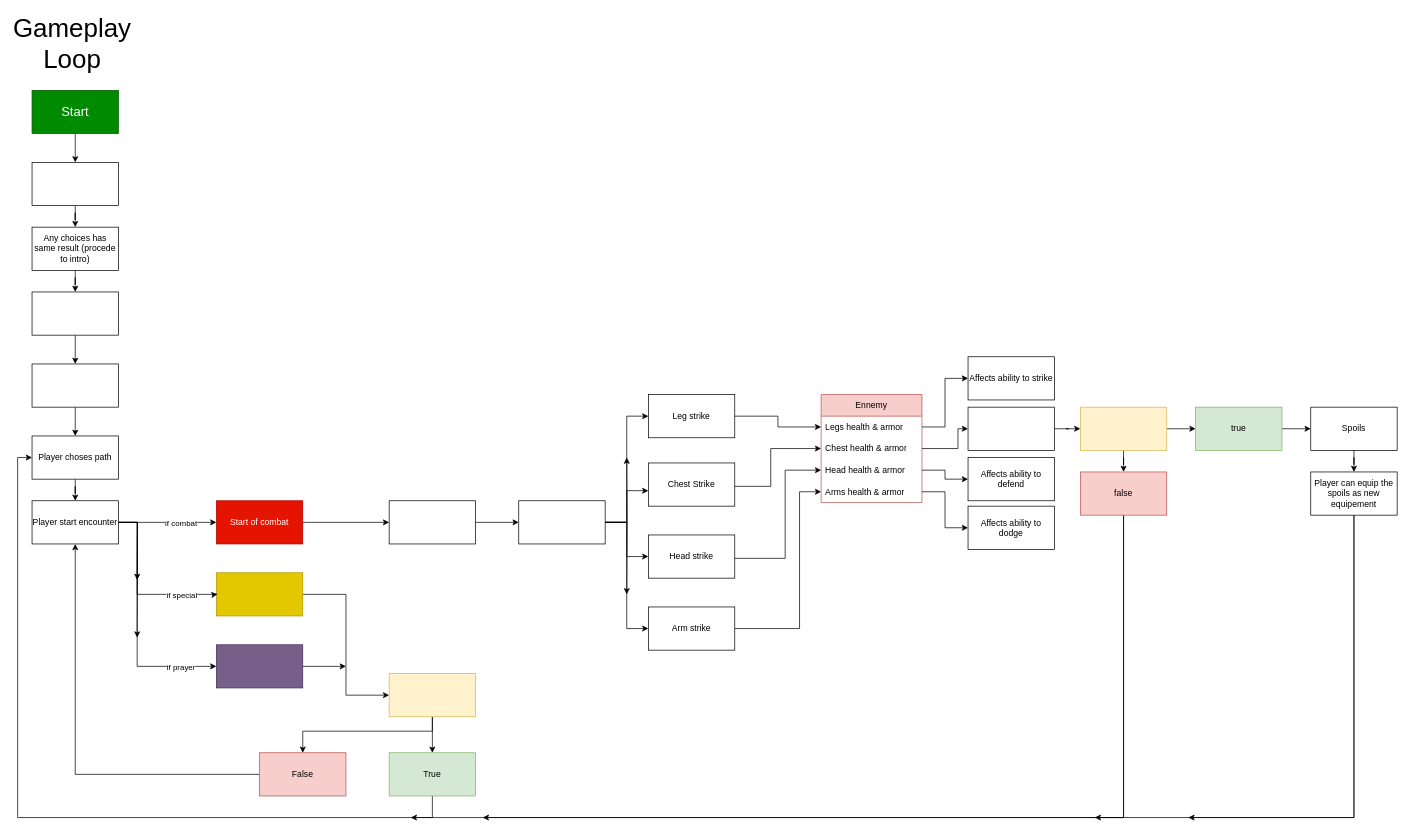
Image size: 1410x836. Some labels were removed from this diagram. The centre of each missing label's shape, as x and y in pixels:
4 options to engage the combat: (x=74, y=184)
Choice of boon: (x=259, y=666)
Combat options: (x=561, y=522)
Ennemy state described: (x=432, y=522)
if branching path: (x=432, y=695)
if depleted: (x=1123, y=428)
Npc talks: (x=74, y=313)
Option: (x=259, y=594)
Overall health pool: (x=1010, y=428)
Path gets revealed on the next board with multiple choices of options: (x=74, y=385)
